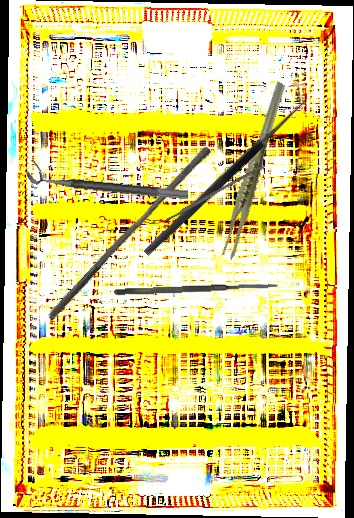Fixation Ring: (26, 159, 190, 201)
Hook Surgical: (135, 85, 312, 258)
Pusher: (45, 139, 214, 328)
Scalpel Handle: (161, 162, 266, 225)
Spatula Surgical: (113, 282, 280, 296)
Tissue Forceps: (191, 80, 318, 261)
